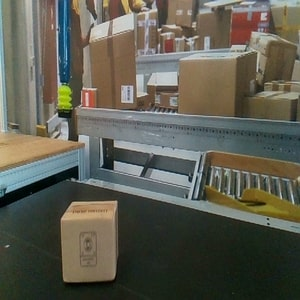box: (59, 199, 120, 284)
